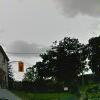Tree: (41, 34, 100, 97)
